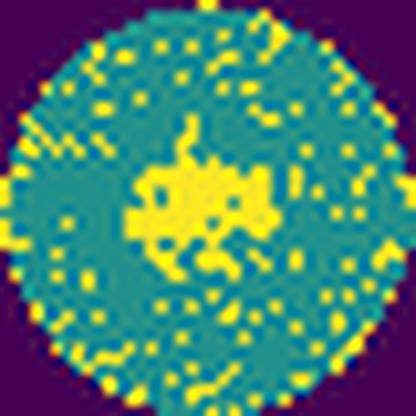Center: (124, 110, 288, 284)
